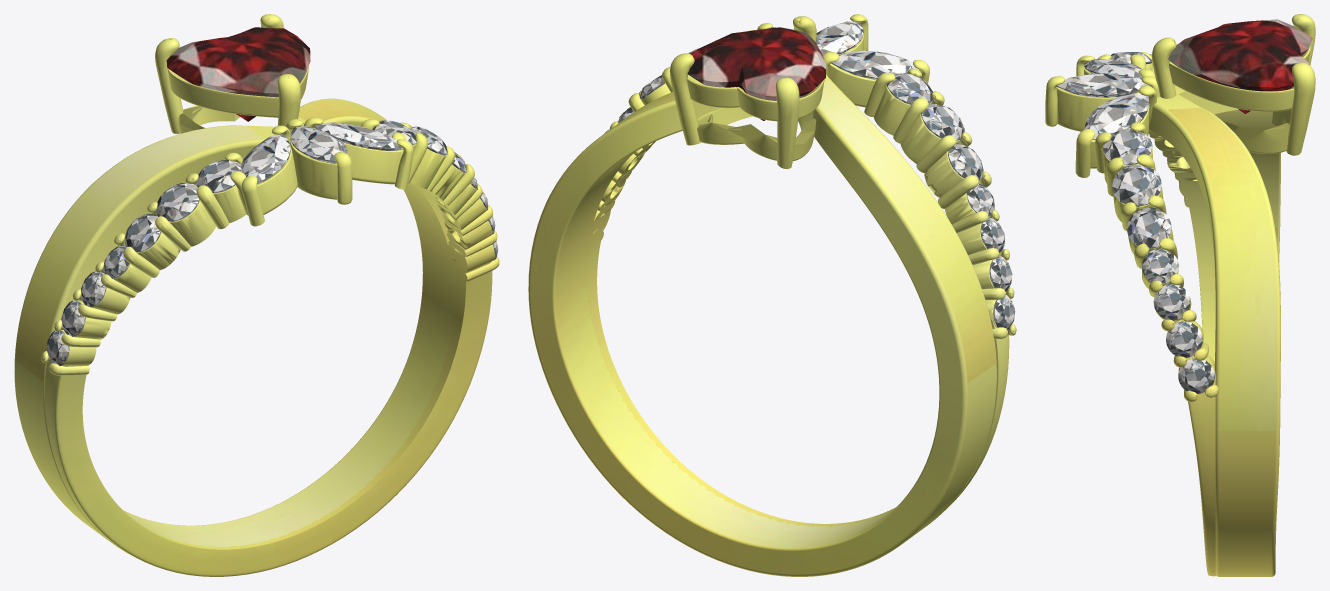
The model's file is ring38.glb.
3 renders of one model, left to right at view 1: azimuth 30°, elevation 25°; view 2: azimuth 150°, elevation 25°; view 3: azimuth 270°, elevation 25°, orthographic.
Visible parts, largest first — view 1: body, diamond, core, diamond1; view 2: body, core, diamond, diamond1; view 3: body, diamond, core, diamond1.
Boxes of the visible parts, x1,y1,x2,y2 form: body: [14, 14, 499, 576]; diamond: [46, 120, 498, 365]; core: [166, 27, 310, 121]; diamond1: [241, 122, 403, 183]; body: [528, 14, 1016, 576]; core: [687, 27, 826, 120]; diamond: [604, 48, 1015, 329]; diamond1: [769, 21, 920, 79]; body: [1045, 14, 1315, 576]; diamond: [1103, 52, 1214, 393]; core: [1168, 19, 1312, 113]; diamond1: [1057, 59, 1149, 139].
Size of the model in its own units: 21.25 by 23.25 by 11.05.
3 materials, 3 textured.
